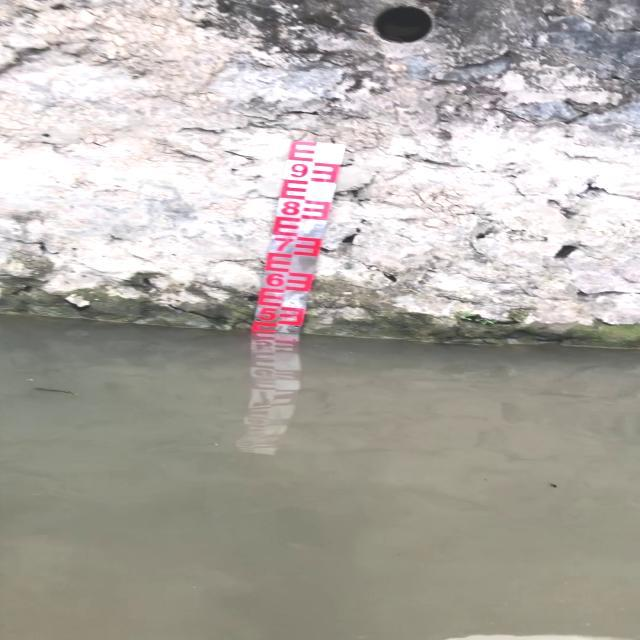ruler: (240, 133, 352, 347)
value: (276, 197, 302, 220), (286, 159, 311, 182), (254, 303, 280, 325), (269, 234, 296, 255), (263, 270, 288, 292)
